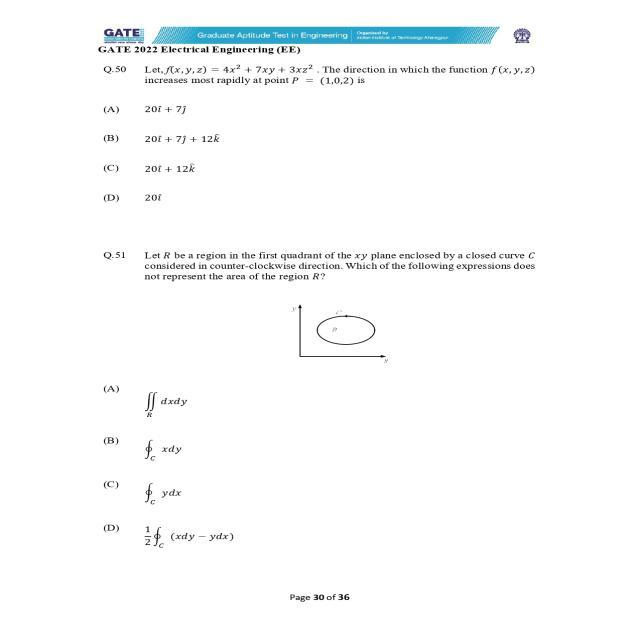Answer_Block: (79, 372, 566, 552), (82, 92, 567, 212)
Question_Answer_Block: (82, 246, 567, 553), (84, 62, 562, 210)
Question_Block: (84, 246, 568, 373), (82, 62, 563, 93)
Question_Paper_Area: (84, 42, 564, 554)
